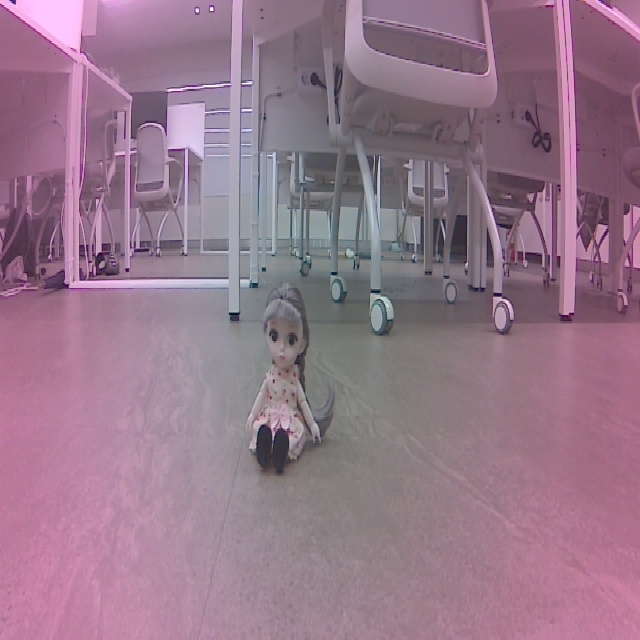장애물: (246, 275, 337, 480)
